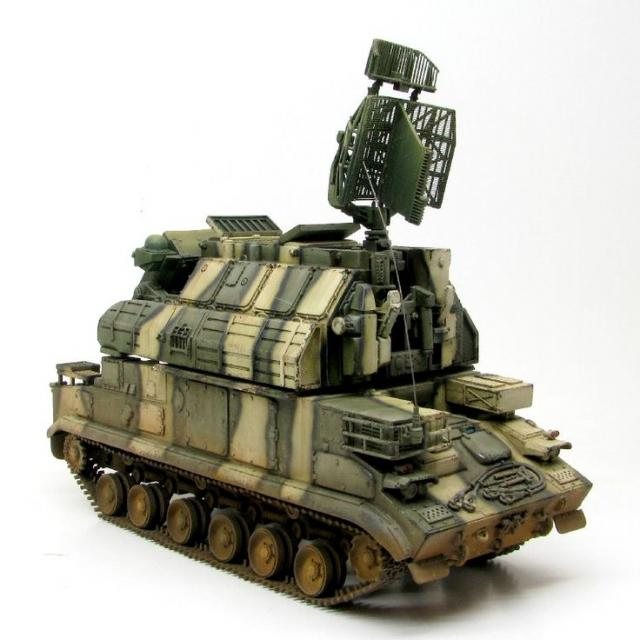MIL_EW_RDR: (46, 36, 594, 611)
